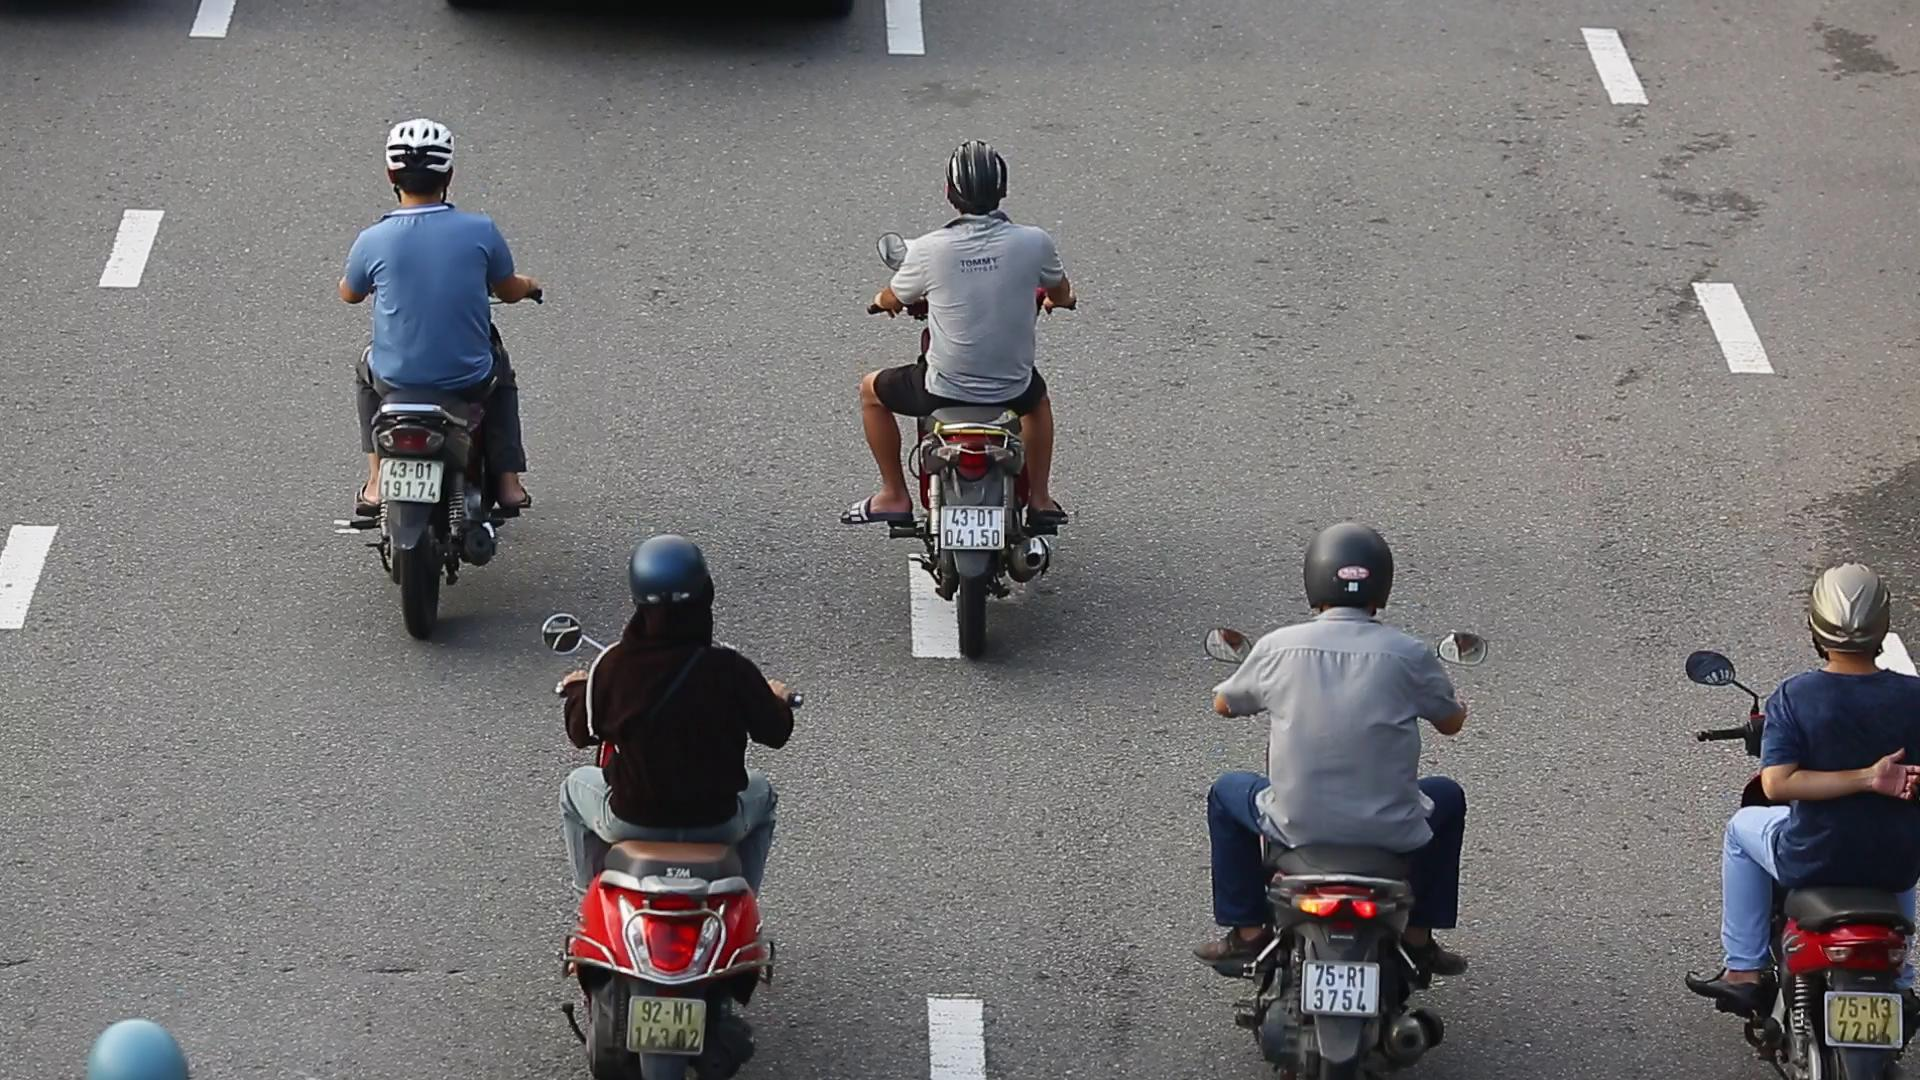motobike: (1193, 506, 1484, 1080), (537, 534, 810, 1080), (1677, 543, 1920, 1080), (320, 115, 545, 645), (858, 117, 1080, 637)
